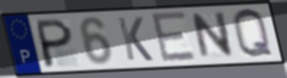6: (77, 15, 115, 68)
E: (148, 10, 199, 65)
K: (115, 16, 156, 63)
N: (190, 10, 237, 61)
P: (36, 17, 75, 69)
Q: (231, 7, 276, 61)
